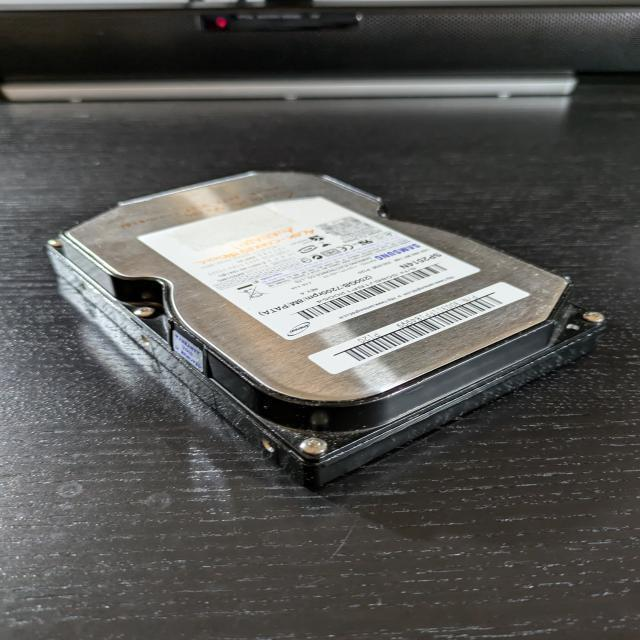DISK: (43, 167, 614, 491)
